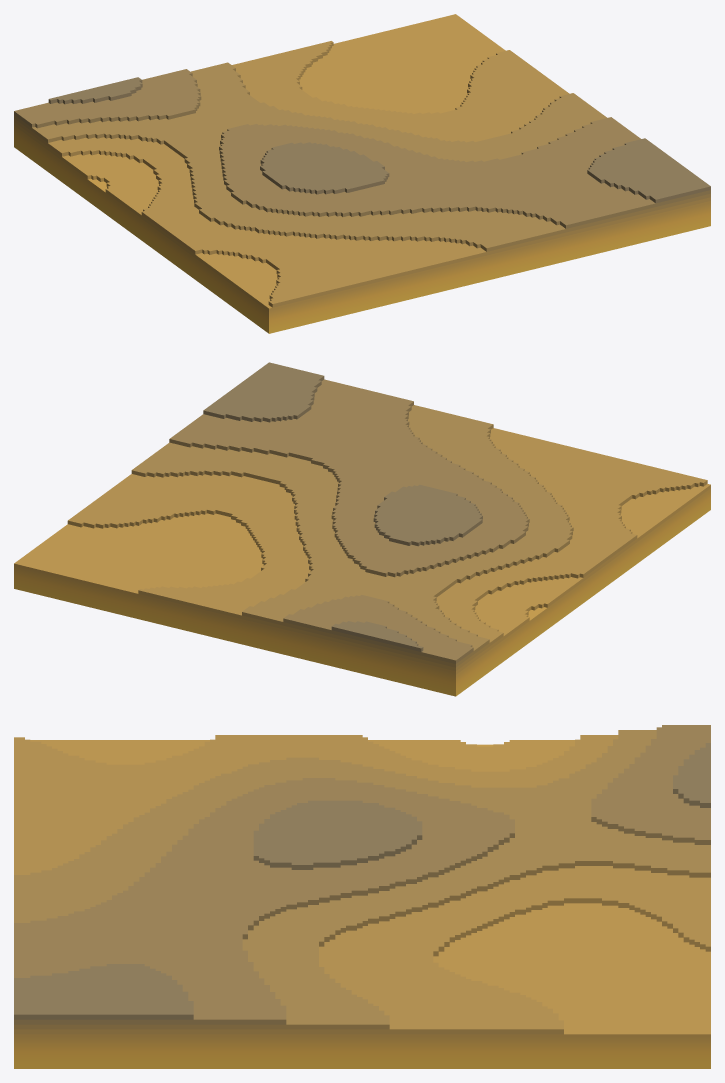
The model's file is desert.fbx.
3 views of the same model, one above another, from view 1: azimuth 30°, elevation 25°; view 2: azimuth 150°, elevation 25°; view 3: azimuth 270°, elevation 25° (orthographic). The views are drawn at different scales.
Parts seen in each view (by area): view 1: Terrain; view 2: Terrain; view 3: Terrain.
Part boxes in pixels (x1=…): Terrain: x1=14, y1=14, x2=710, y2=333; Terrain: x1=14, y1=362, x2=710, y2=696; Terrain: x1=14, y1=725, x2=710, y2=1068.
Bounding box in the file's own units: 128 × 11 × 128.
